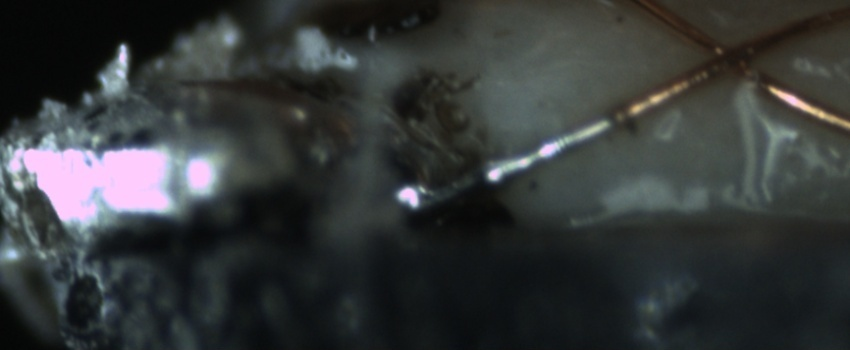CL: (686, 23, 777, 92)
TS: (410, 103, 611, 210)
TTCW: (416, 94, 645, 209)
